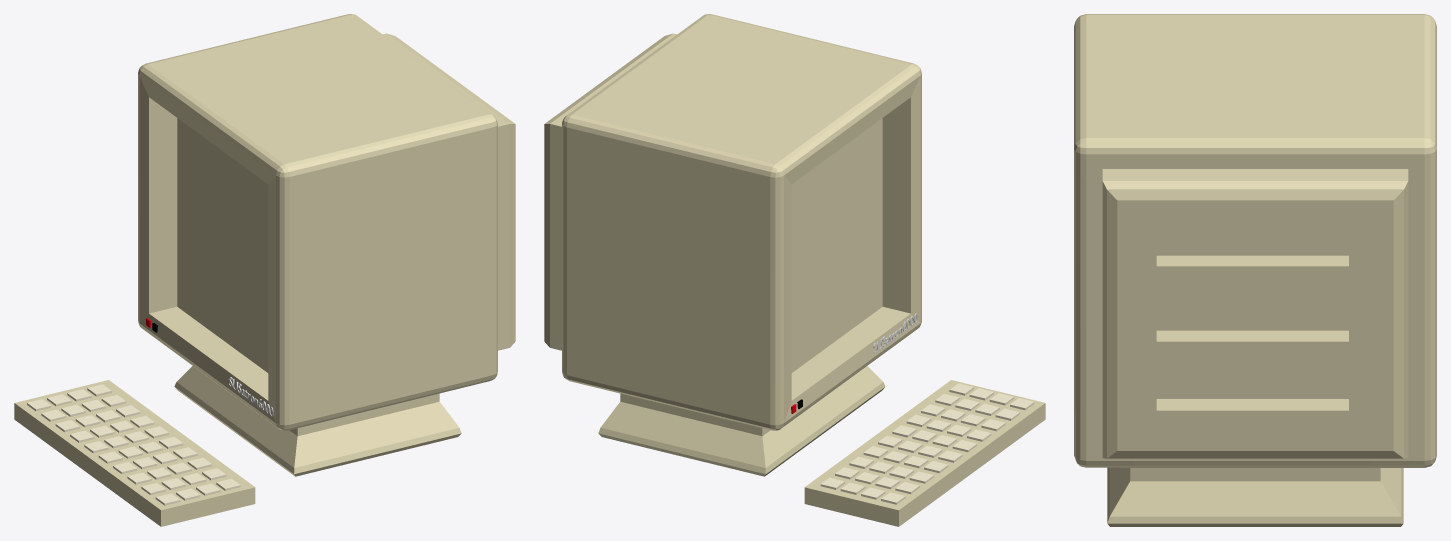
The model's file is Computer.fbx.
3 views of the same model, side by side, from view 1: azimuth 30°, elevation 25°; view 2: azimuth 150°, elevation 25°; view 3: azimuth 270°, elevation 25° (orthographic). The views are drawn at different scales.
Parts seen in each view (by area): view 1: Cube, Cube.004, Cube.005; view 2: Cube, Cube.004, Cube.005; view 3: Cube.
Part boxes in pixels (x1=…): Cube: x1=138, y1=14, x2=515, y2=476; Cube.004: x1=14, y1=380, x2=255, y2=526; Cube.005: x1=27, y1=384, x2=240, y2=505; Cube: x1=544, y1=14, x2=921, y2=476; Cube.004: x1=804, y1=380, x2=1045, y2=526; Cube.005: x1=820, y1=383, x2=1034, y2=504; Cube: x1=1074, y1=14, x2=1436, y2=526.
Size of the model in its own units: 292 by 246 by 200.
